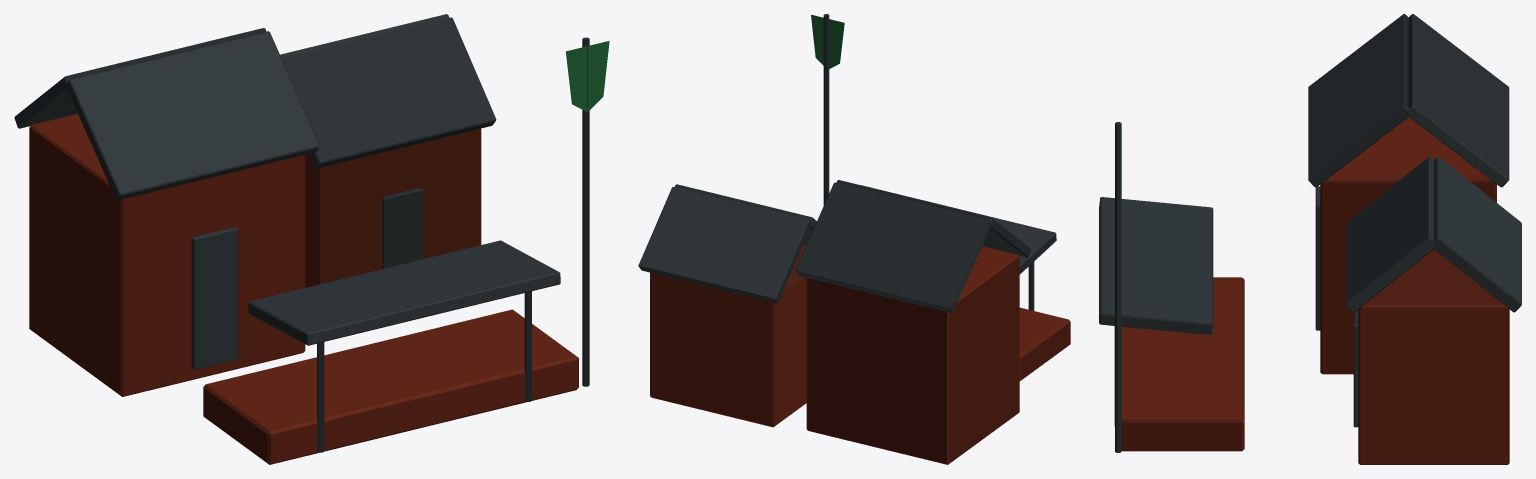
File: edificio-b_015-e4-DIRbJEww.glb
3 renders of one model, left to right at view 1: azimuth 30°, elevation 25°; view 2: azimuth 150°, elevation 25°; view 3: azimuth 270°, elevation 25°, orthographic. The views are drawn at different scales.
Parts seen in each view (by area): view 1: edificio_b_015_e4_envolvente, edificio_b_015_e4_detalles, edificio_b_015_e4_team_color; view 2: edificio_b_015_e4_envolvente, edificio_b_015_e4_detalles, edificio_b_015_e4_team_color; view 3: edificio_b_015_e4_envolvente, edificio_b_015_e4_detalles.
Boxes of the visible parts, x1=… form: edificio_b_015_e4_envolvente: x1=29, y1=113, x2=578, y2=464; edificio_b_015_e4_detalles: x1=14, y1=14, x2=589, y2=452; edificio_b_015_e4_team_color: x1=565, y1=41, x2=609, y2=111; edificio_b_015_e4_envolvente: x1=650, y1=245, x2=1070, y2=464; edificio_b_015_e4_detalles: x1=638, y1=14, x2=1056, y2=312; edificio_b_015_e4_team_color: x1=811, y1=14, x2=844, y2=68; edificio_b_015_e4_envolvente: x1=1121, y1=117, x2=1509, y2=464; edificio_b_015_e4_detalles: x1=1099, y1=14, x2=1521, y2=452.
Bounding box in the file's own units: 34.4 × 29 × 33.48.
3 materials, 3 textured.
